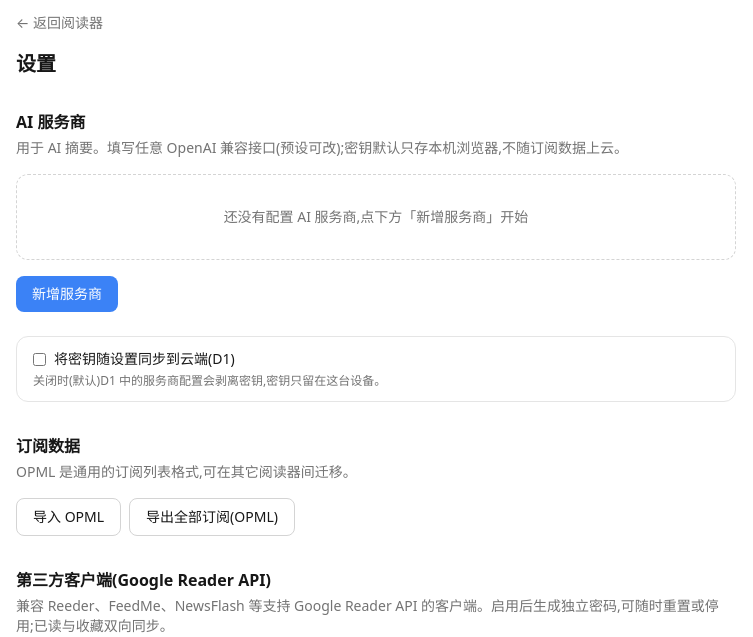
Settings 挂载 › 密钥云同步开关:切换 → store.syncKeys 变更 + 警示文案出现/消失
The image size is (753, 637).
Expected: the text "密钥将写入你的 D1 数据库" is not shown
Click the checkbox labelled "将密钥随设置同步到云端(D1)" at (40,359), box [33,352,46,366]
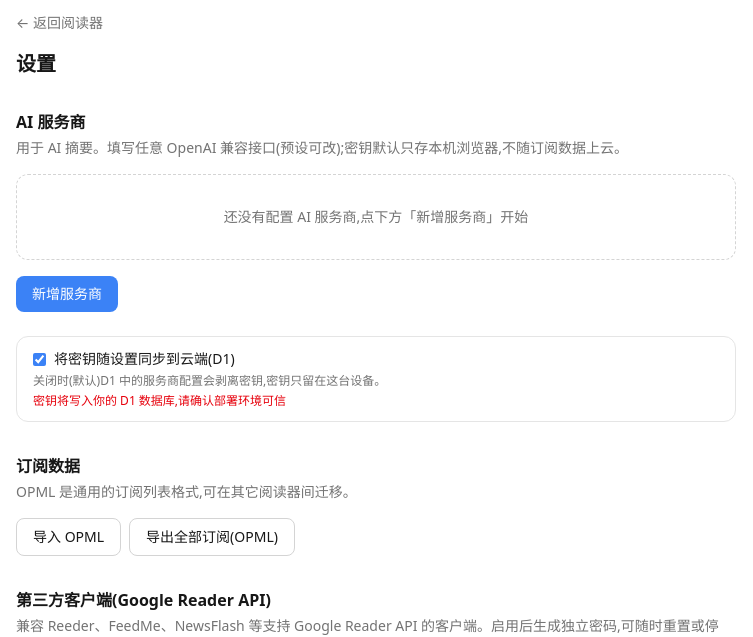
Expected: the text "密钥将写入你的 D1 数据库,请确认部署环境可信" is shown, [33,392,286,409]
Click the checkbox labelled "将密钥随设置同步到云端(D1)" at (40,359), box [33,352,46,366]
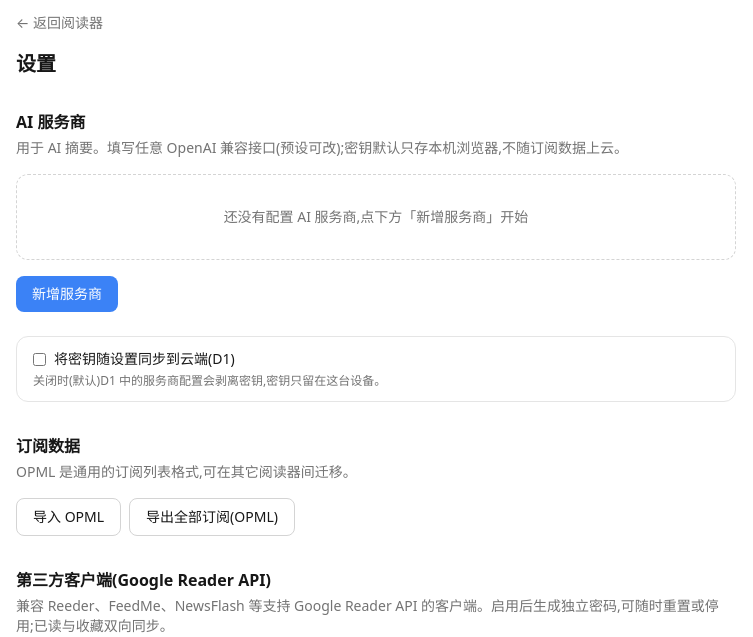
Expected: the text "密钥将写入你的 D1 数据库" is gone
